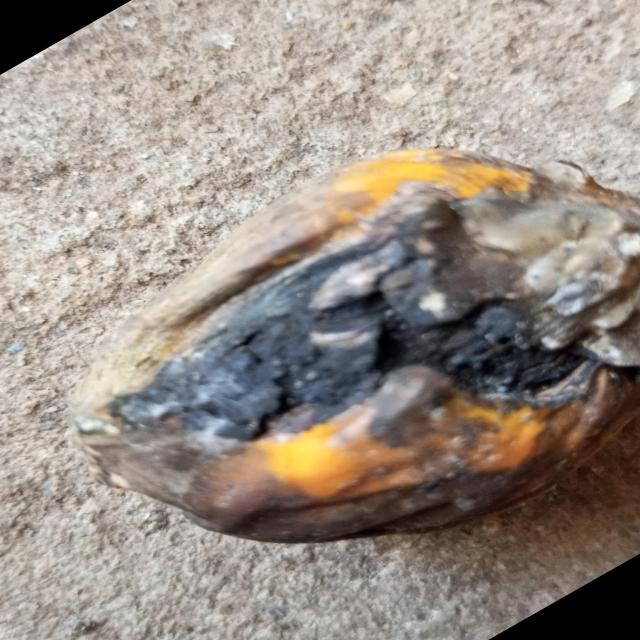damaged: (73, 149, 640, 542)
